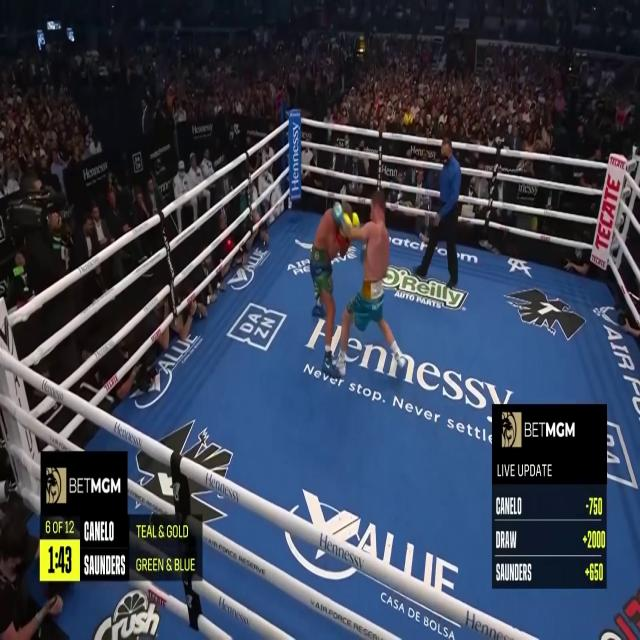boxer_1: (314, 209, 334, 248), (342, 203, 352, 223)
boxer_2: (364, 192, 389, 281)
gloves_1: (344, 213, 360, 228)
gloves_2: (333, 202, 342, 223), (360, 247, 363, 263)
